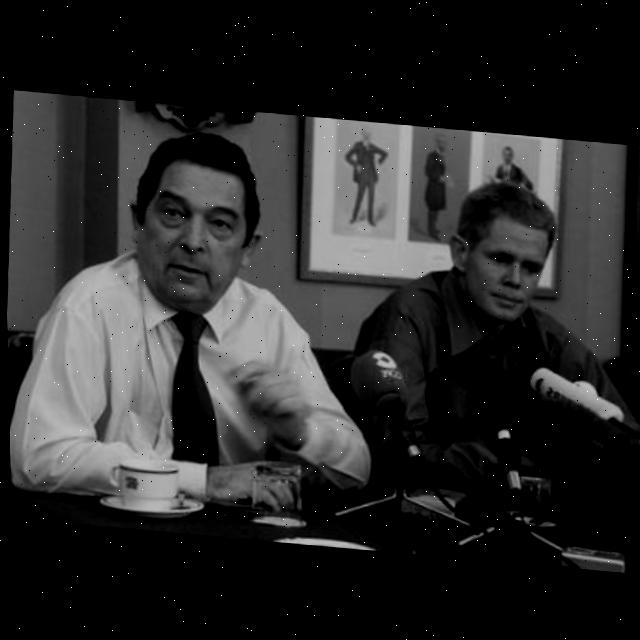face: (140, 154, 256, 318), (455, 208, 559, 325)
